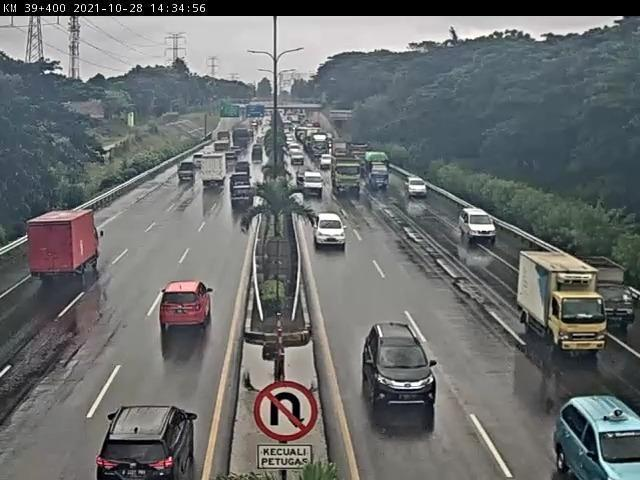car: (547, 371, 640, 480), (90, 406, 197, 480), (362, 317, 445, 411), (152, 271, 215, 353), (588, 270, 640, 329), (309, 214, 349, 261), (458, 207, 494, 247), (399, 172, 429, 200), (300, 169, 326, 198), (226, 188, 252, 215), (174, 162, 197, 185), (233, 178, 250, 189)
truck: (517, 255, 605, 351), (22, 208, 112, 298), (192, 151, 228, 199), (327, 160, 359, 195), (366, 157, 390, 191), (193, 317, 197, 334)
